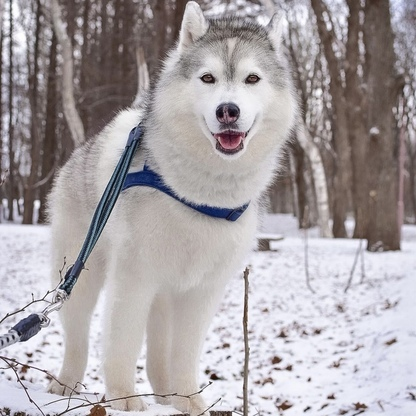husky: (40, 1, 306, 416)
